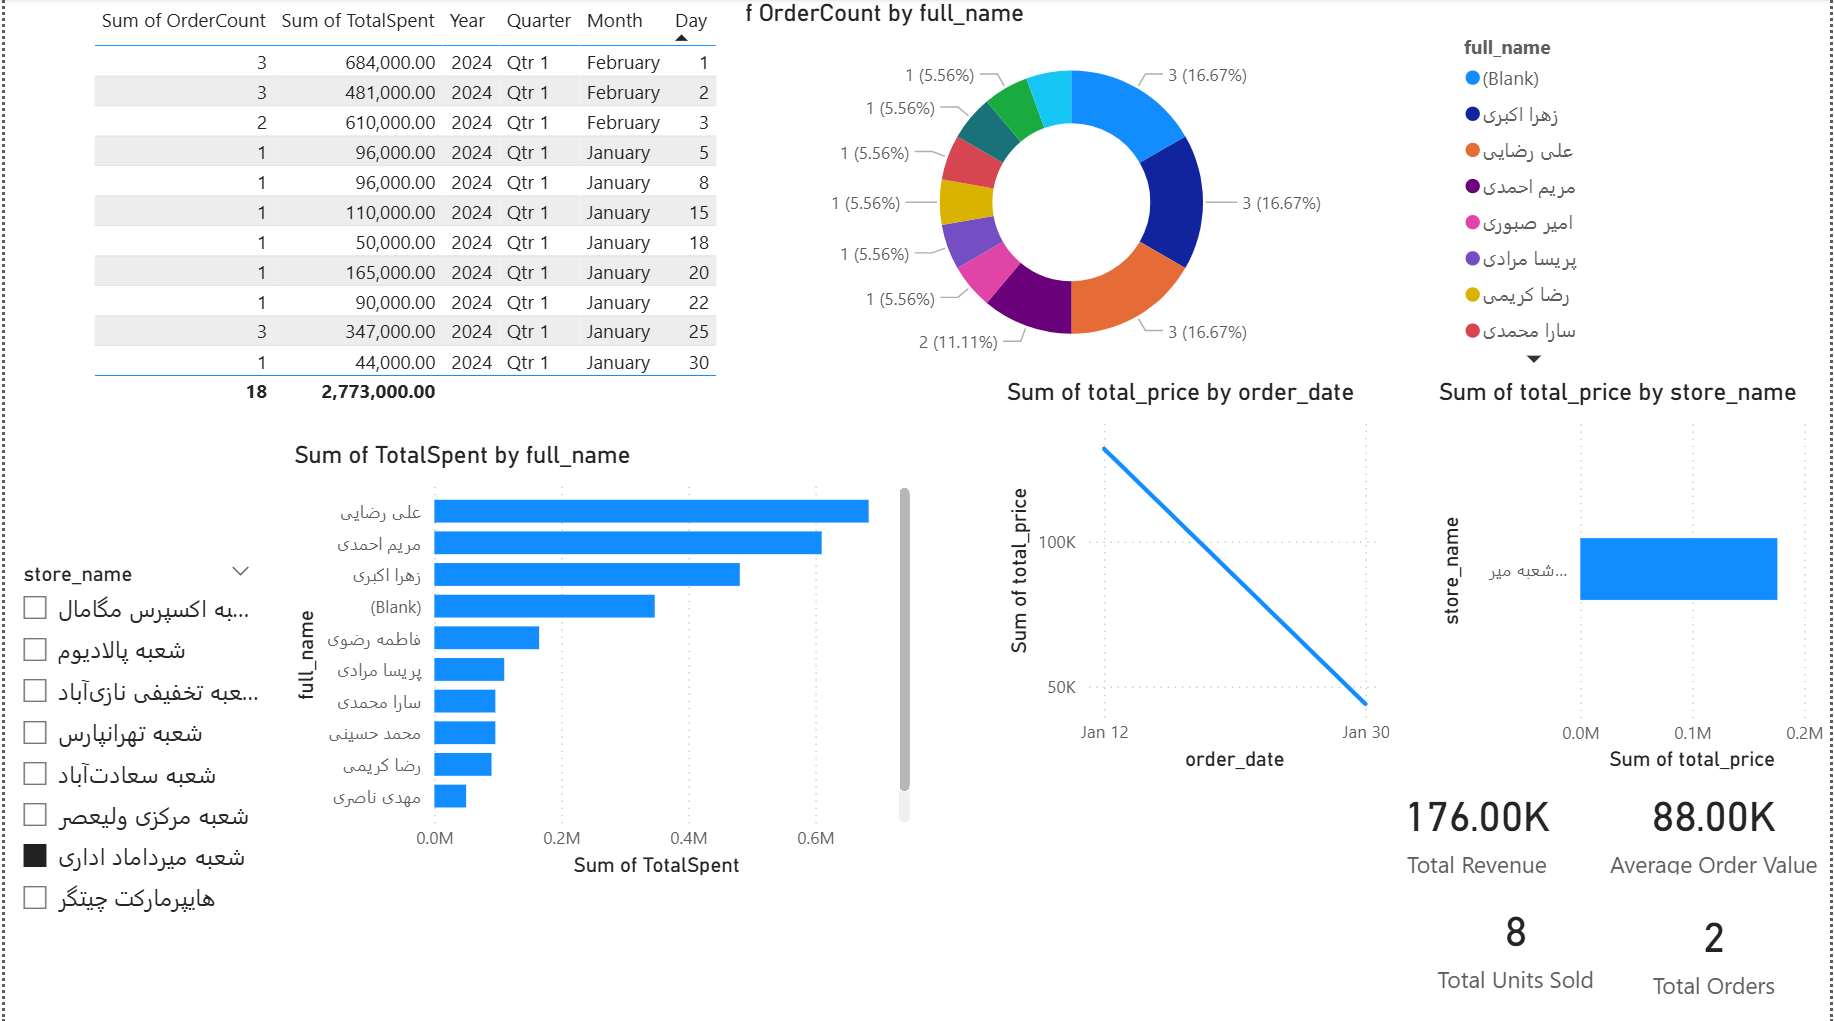

Layout of this report page (visuals, bound fields, positions):
{"tool":"powerbi","page":{"name":"Page 1","canvas":[1280,720],"ordinal":0},"visuals":[{"type":"clusteredBarChart","fields":{"Category":["Stores.store_name"],"Y":["Sum(Orders.total_price)"]},"box":[1000.4,266.3,280,280],"z":0},{"type":"lineChart","fields":{"Category":["Orders.order_date"],"Y":["Sum(Orders.total_price)"]},"box":[697.1,266.3,278.3,279.6],"z":1000},{"type":"card","fields":{"Values":["Orders.Average Order Value"]},"box":[1114.5,545.9,165.9,73.6],"z":2000},{"type":"card","fields":{"Values":["Orders.Total Orders"]},"box":[1114.5,630.2,165.9,74.9],"z":3000},{"type":"card","fields":{"Values":["Orders.Total Revenue"]},"box":[948.6,545.9,165.9,73.6],"z":4000},{"type":"card","fields":{"Values":["Orders.Total Units Sold"]},"box":[975.4,619.5,165.9,87],"z":5000},{"type":"donutChart","fields":{"Y":["Sum(vw_CustomerRFM.OrderCount)"],"Category":["Customers.full_name"]},"box":[466.6,0,656.7,266.3],"z":6000},{"type":"tableEx","fields":{"Values":["Sum(vw_CustomerRFM.OrderCount)","Sum(vw_CustomerRFM.TotalSpent)","vw_CustomerRFM.LastOrderDate.Variation.Date Hierarchy.Year","vw_CustomerRFM.LastOrderDate.Variation.Date Hierarchy.Quarter","vw_CustomerRFM.LastOrderDate.Variation.Date Hierarchy.Month","vw_CustomerRFM.LastOrderDate.Variation.Date Hierarchy.Day"]},"box":[56.9,0,462.1,310.7],"z":7000},{"type":"clusteredBarChart","fields":{"Category":["Customers.full_name"],"Y":["Sum(vw_CustomerRFM.TotalSpent)"]},"box":[198,310.7,441.6,309.6],"z":8000},{"type":"slicer","fields":{"Values":["Stores.store_name"]},"box":[0,390.4,184.1,309.4],"z":9000}]}

Visuals, with their boxes in screenshot pixels (x1, y1, x2, y2), scaled from the page's 1280x720 canvas onto the 1834x1021 screenshot:
clusteredBarChart - Stores.store_name x Sum(Orders.total_price): 1433:378:1833:775
lineChart - Orders.order_date x Sum(Orders.total_price): 999:378:1398:774
card - Orders.Average Order Value: 1597:774:1833:878
card - Orders.Total Orders: 1597:894:1833:1000
card - Orders.Total Revenue: 1359:774:1597:878
card - Orders.Total Units Sold: 1398:878:1635:1002
donutChart - Sum(vw_CustomerRFM.OrderCount) x Customers.full_name: 669:0:1609:378
tableEx - Sum(vw_CustomerRFM.OrderCount) x Sum(vw_CustomerRFM.TotalSpent): 82:0:744:441
clusteredBarChart - Customers.full_name x Sum(vw_CustomerRFM.TotalSpent): 284:441:916:880
slicer - Stores.store_name: 0:554:264:992
